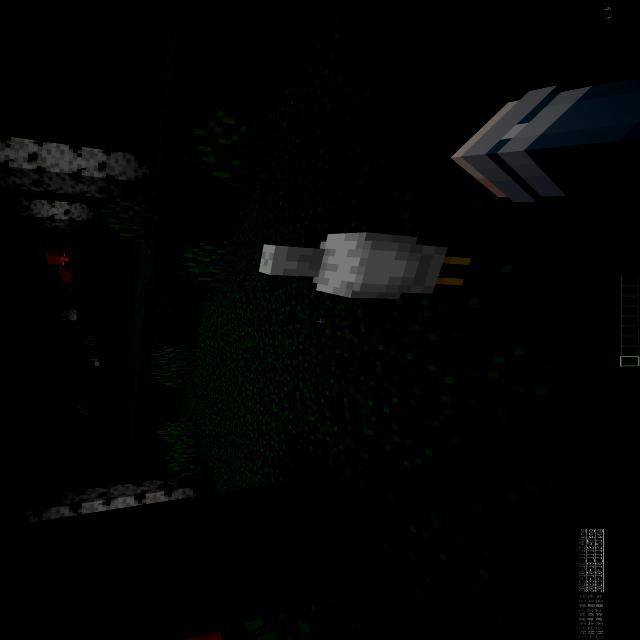chicken: (257, 216, 476, 316)
pig: (53, 264, 77, 286), (42, 247, 70, 265)
